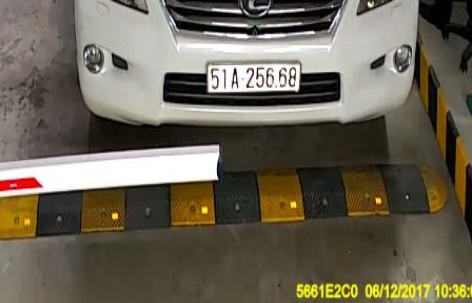plate: (203, 60, 302, 96)
